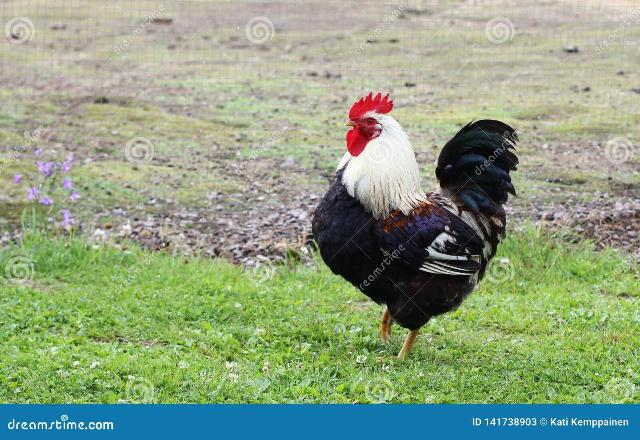Chicken: (313, 92, 518, 356)
